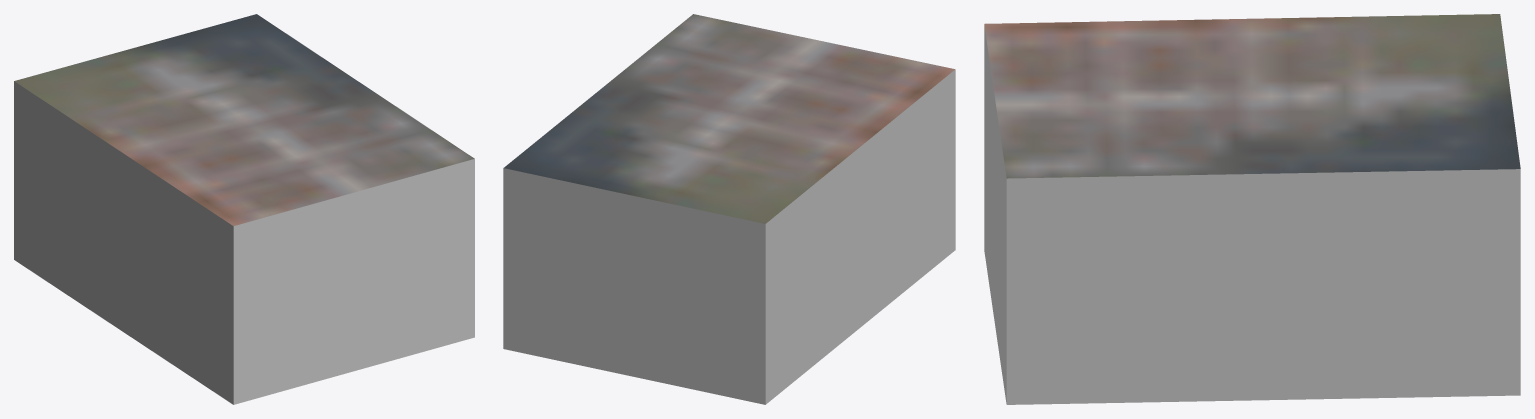
File: DEBW_0010007Txce.gltf
3 renders of one model, left to right at view 1: azimuth 30°, elevation 25°; view 2: azimuth 150°, elevation 25°; view 3: azimuth 270°, elevation 25°, orthographic. The views are drawn at different scales.
Parts seen in each view (by area): view 1: Z_UP; view 2: Z_UP; view 3: Z_UP.
Boxes of the visible parts, <box> form: Z_UP: <box>14,14,474,404</box>; Z_UP: <box>503,14,955,404</box>; Z_UP: <box>984,14,1520,404</box>.
Size of the model in its own units: 4.18 by 2.68 by 5.76.
2 materials, 1 textured.
